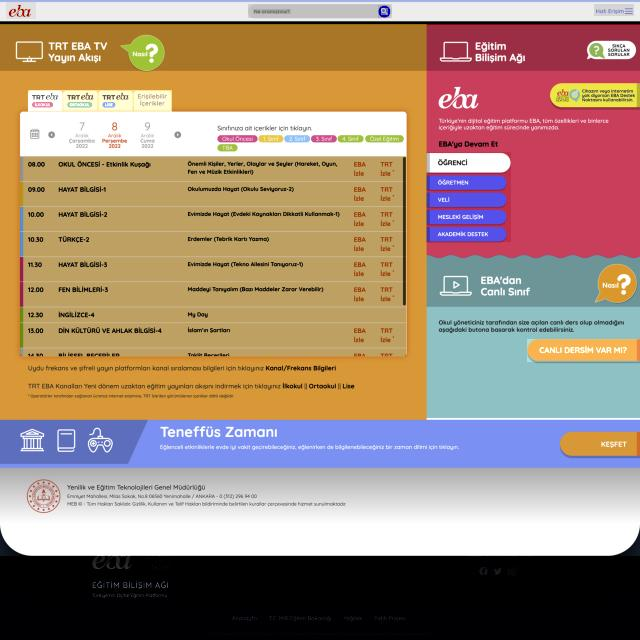CheckBox: (527, 339, 640, 362), (378, 5, 390, 18)
CheckedTextView: (248, 4, 392, 18)
QR code: (20, 156, 406, 356)
badge: (0, 556, 640, 640)
bag: (0, 0, 640, 25)
carousel: (381, 8, 388, 15)
data feed: (253, 9, 291, 14)
date picker: (6, 2, 36, 19)
decoration: (426, 152, 511, 242), (594, 5, 634, 16)
icon: (28, 90, 172, 112)
